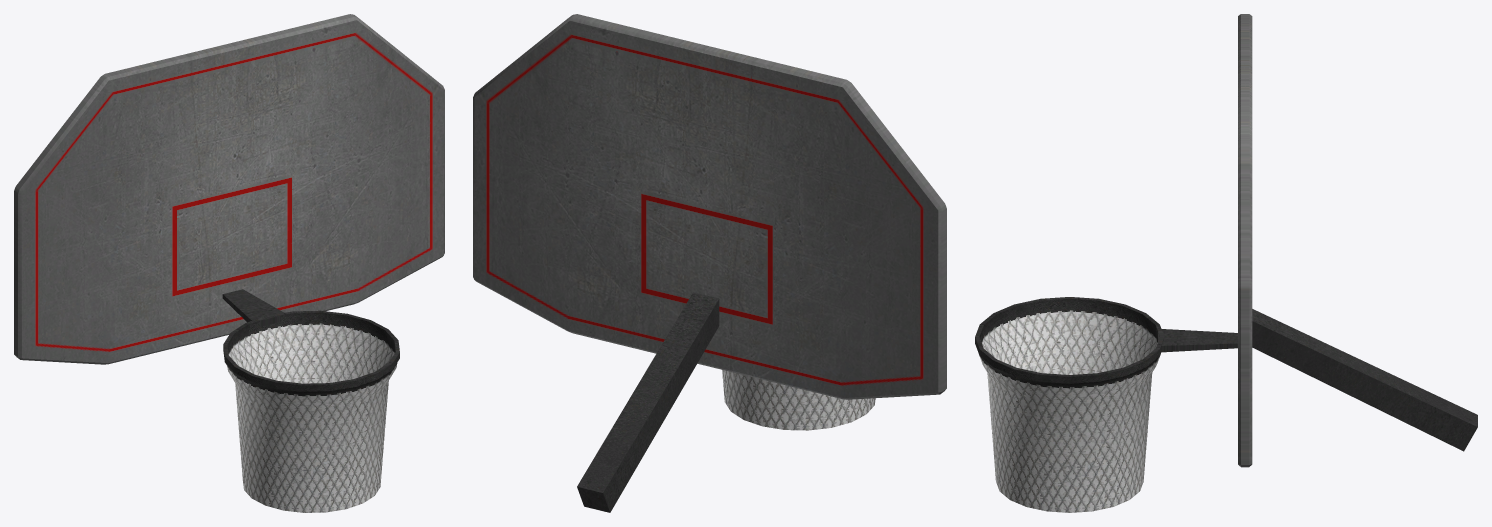
File: basketball_hoop.dae
3 renders of one model, left to right at view 1: azimuth 30°, elevation 25°; view 2: azimuth 150°, elevation 25°; view 3: azimuth 270°, elevation 25°, orthographic. The views are drawn at different scales.
Visible parts, largest first — view 1: polySurface1, pPipe1; view 2: polySurface1, pPipe1; view 3: pPipe1, polySurface1.
Part boxes in pixels (x1,y1,x2,y2): polySurface1: [14, 14, 444, 364]; pPipe1: [223, 310, 399, 512]; polySurface1: [473, 14, 946, 512]; pPipe1: [722, 370, 875, 430]; pPipe1: [975, 297, 1164, 512]; polySurface1: [1158, 14, 1477, 467].
Size of the model in its own units: 1.65 by 1.4 by 1.58.
